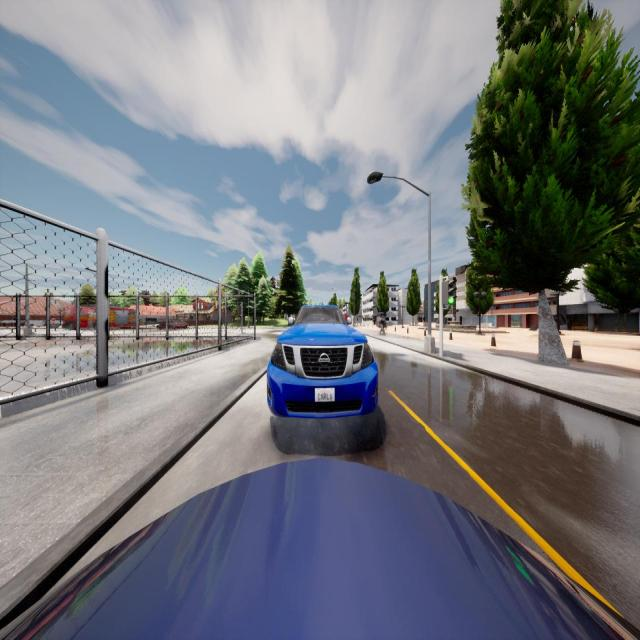Pedestrian: (380, 312, 386, 335)
Vehicle: (0, 459, 640, 640), (266, 306, 378, 418), (61, 306, 136, 329), (158, 320, 187, 329)
traffic_light: (442, 280, 457, 303), (238, 306, 242, 315)
